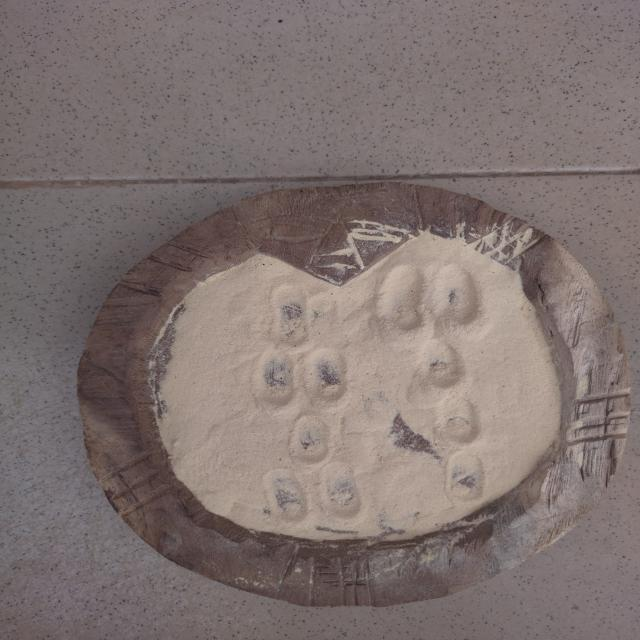double: (371, 259, 484, 339), (262, 460, 372, 530), (252, 340, 361, 410)
single: (435, 445, 497, 509), (433, 386, 493, 442), (266, 279, 316, 343), (409, 340, 474, 386), (282, 416, 344, 458)
